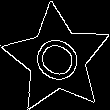O_SE: (25, 28, 89, 90)
